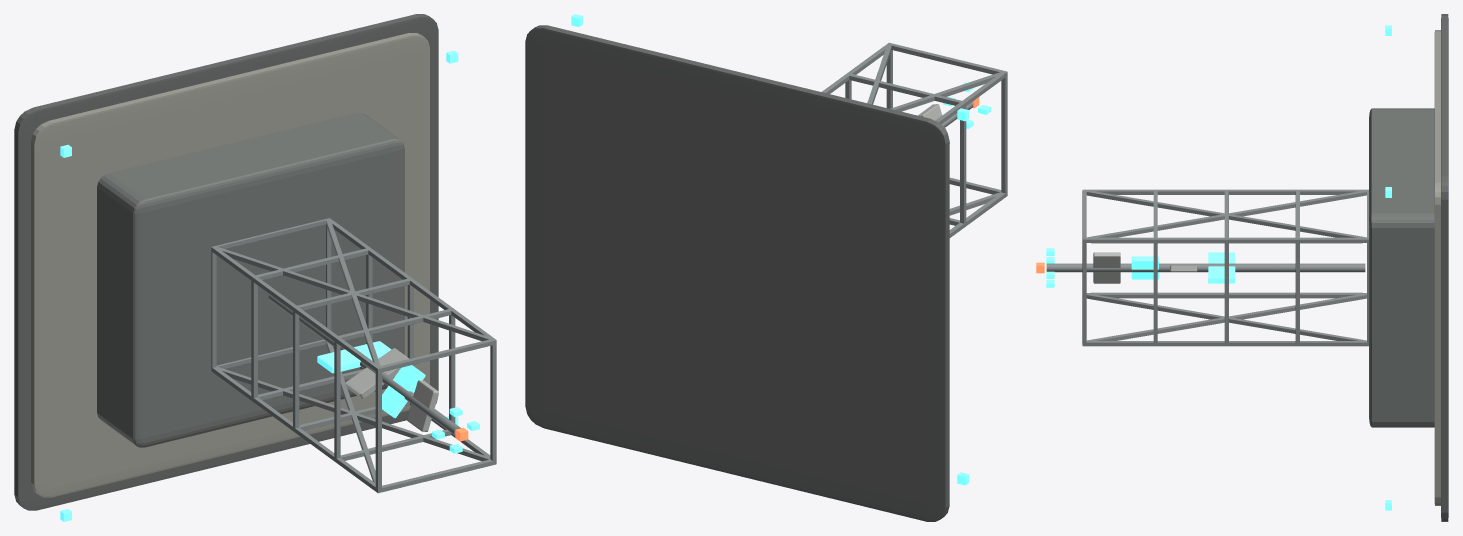
Rendered from b-23-sensor-tower-lod1.glb.
3 views of the same model, side by side, from view 1: azimuth 30°, elevation 25°; view 2: azimuth 150°, elevation 25°; view 3: azimuth 270°, elevation 25° (orthographic). The views are drawn at different scales.
Visible parts, largest first — view 1: bunker_main, foundation_inner_pad, foundation, sensor_tower_frame_brace_a_1.5, sensor_tower_frame_brace_a_-1.5, sensor_tower_frame_column_w_n, sensor_tower_frame_column_w_s, sensor_tower_frame_column_e_n, tower_main_sensor_main, tower_main_sensor_array_2, tower_main_sensor_array_1, sensor_tower_frame_brace_b_1.5 (+19 smaller); view 2: foundation, sensor_tower_frame_beam_y_4_w, sensor_tower_frame_beam_x_4_n, sensor_tower_frame_beam_x_3_n, sensor_tower_frame_beam_y_3_w, sensor_tower_frame_brace_b_1.5, sensor_tower_frame_column_w_n; view 3: bunker_main, foundation, foundation_inner_pad, tower_main_sensor_main, sensor_tower_frame_column_e_n, sensor_tower_frame_column_w_s, sensor_tower_frame_column_e_s, sensor_tower_frame_brace_b_1.5, sensor_tower_frame_brace_a_1.5, sensor_tower_frame_brace_b_-1.5, sensor_tower_frame_brace_a_-1.5, sensor_tower_frame_column_w_n (+7 smaller).
Boxes of the visible parts, x1,y1,x2,y2 form: bunker_main: (97, 112, 404, 447); foundation_inner_pad: (31, 33, 429, 497); foundation: (14, 14, 438, 510); sensor_tower_frame_brace_a_1.5: (215, 246, 490, 341); sensor_tower_frame_brace_a_-1.5: (216, 366, 489, 461); sensor_tower_frame_column_w_n: (212, 247, 378, 371); sensor_tower_frame_column_w_s: (212, 367, 375, 491); sensor_tower_frame_column_e_n: (328, 219, 493, 338); tower_main_sensor_main: (268, 294, 460, 435); tower_main_sensor_array_2: (382, 365, 425, 418); tower_main_sensor_array_1: (345, 348, 409, 398); sensor_tower_frame_brace_b_1.5: (326, 219, 380, 366); foundation: (525, 25, 949, 521); sensor_tower_frame_beam_y_4_w: (1001, 70, 1007, 194); sensor_tower_frame_beam_x_4_n: (890, 43, 1007, 76); sensor_tower_frame_beam_x_3_n: (849, 74, 964, 107); sensor_tower_frame_beam_y_3_w: (960, 101, 966, 223); sensor_tower_frame_brace_b_1.5: (890, 72, 1001, 111); sensor_tower_frame_column_w_n: (935, 72, 1005, 124); bunker_main: (1369, 108, 1434, 427); foundation: (1441, 14, 1448, 521); foundation_inner_pad: (1434, 30, 1440, 505); tower_main_sensor_main: (1046, 263, 1365, 272); sensor_tower_frame_column_e_n: (1086, 237, 1366, 243); sensor_tower_frame_column_w_s: (1086, 292, 1366, 298); sensor_tower_frame_column_e_s: (1086, 341, 1366, 346); sensor_tower_frame_brace_b_1.5: (1086, 191, 1366, 238); sensor_tower_frame_brace_a_1.5: (1086, 191, 1366, 237); sensor_tower_frame_brace_b_-1.5: (1086, 294, 1366, 341); sensor_tower_frame_brace_a_-1.5: (1087, 294, 1366, 341); sensor_tower_frame_column_w_n: (1086, 189, 1366, 194).
Size of what is drawn, in the model's own units: 11 by 10 by 10.87.
